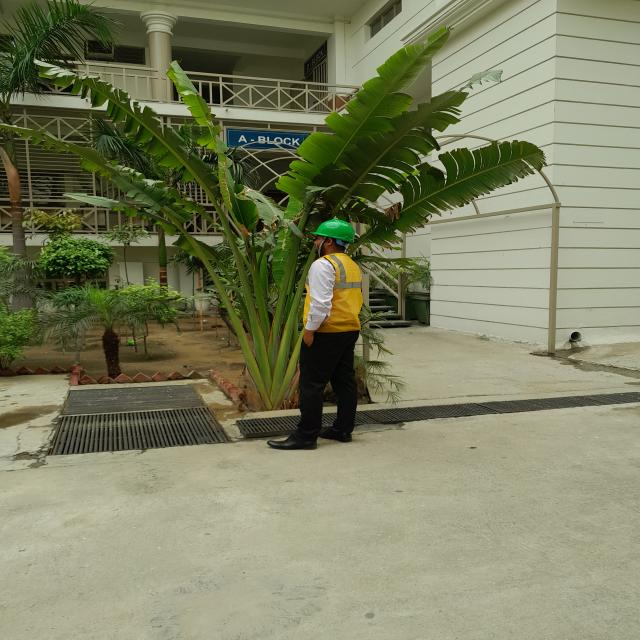safe: (294, 219, 366, 449)
